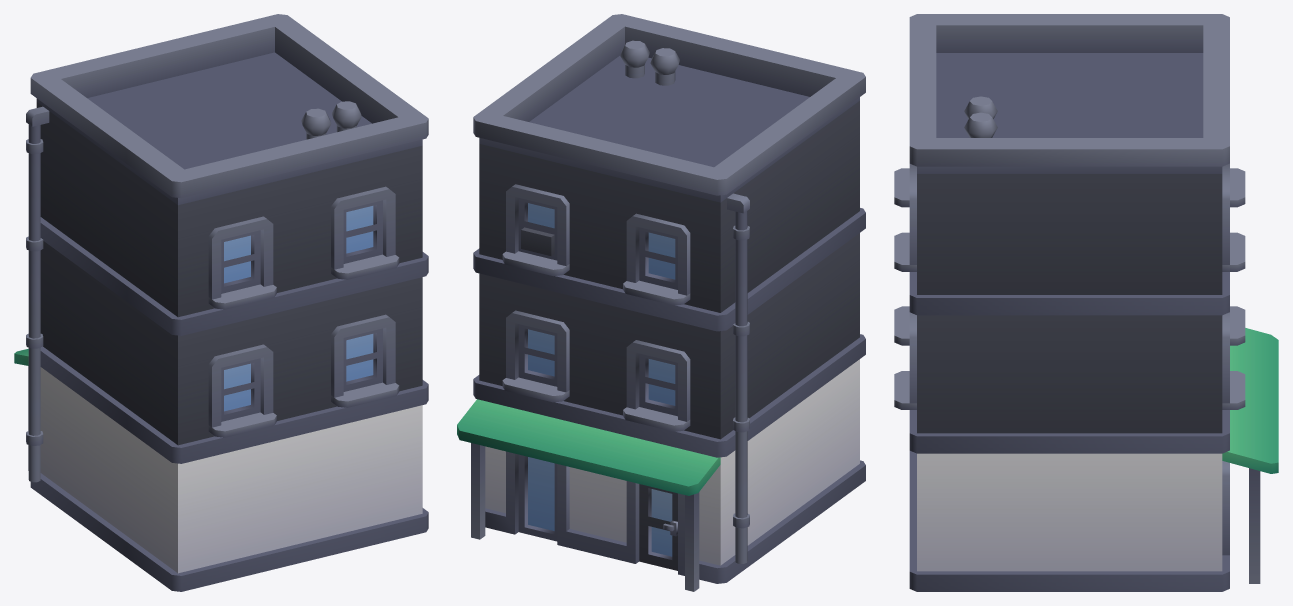
The model's file is k_c_building-h.glb.
3 views of the same model, side by side, from view 1: azimuth 30°, elevation 25°; view 2: azimuth 150°, elevation 25°; view 3: azimuth 270°, elevation 25° (orthographic). The views are drawn at different scales.
Parts seen in each view (by area): view 1: building-h; view 2: building-h; view 3: building-h.
Part boxes in pixels (x1=…): building-h: x1=14, y1=14, x2=428, y2=591; building-h: x1=457, y1=14, x2=865, y2=591; building-h: x1=894, y1=14, x2=1278, y2=591.
Bounding box in the file's own units: 0.8836 × 1.29 × 1.01.
1 material, 1 textured.
